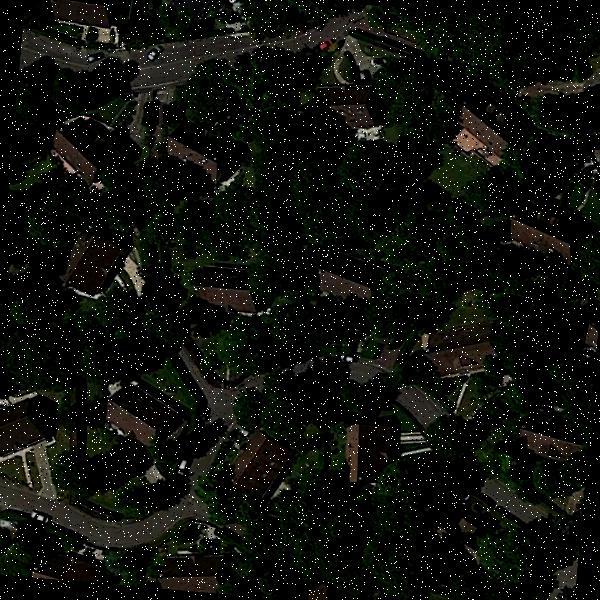Buildings: (107, 386, 166, 455), (472, 84, 525, 160), (336, 424, 394, 492), (432, 324, 498, 378), (312, 86, 379, 136), (509, 204, 580, 251), (53, 119, 115, 171), (516, 410, 588, 454), (48, 0, 132, 35), (232, 441, 286, 493), (170, 136, 241, 172), (0, 403, 45, 459), (162, 550, 227, 588), (325, 258, 377, 305), (39, 546, 102, 584), (61, 244, 119, 282), (164, 0, 215, 29), (202, 272, 246, 304)
